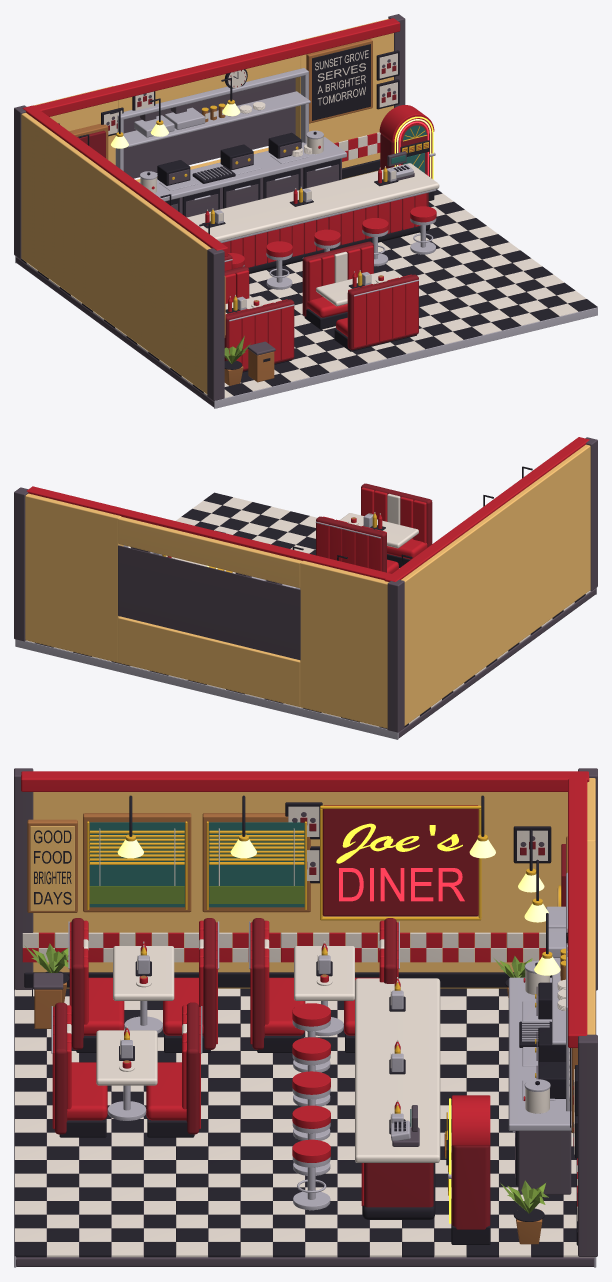
Rendered from int.diner.glb.
3 renders of one model, top to bottom at view 1: azimuth 30°, elevation 25°; view 2: azimuth 150°, elevation 25°; view 3: azimuth 270°, elevation 25°, orthographic. The views are drawn at different scales.
Size of the model in its own units: 10.06 by 3.89 by 9.04.
